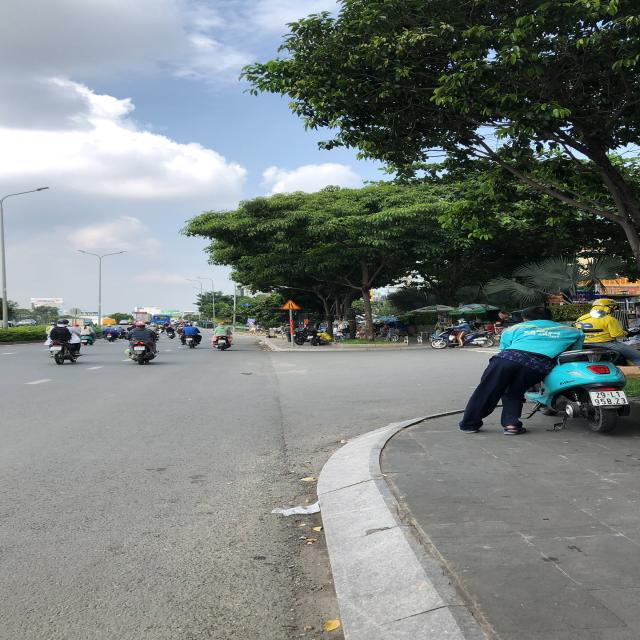Bien bao duong bi thu hep: (278, 297, 306, 310)
